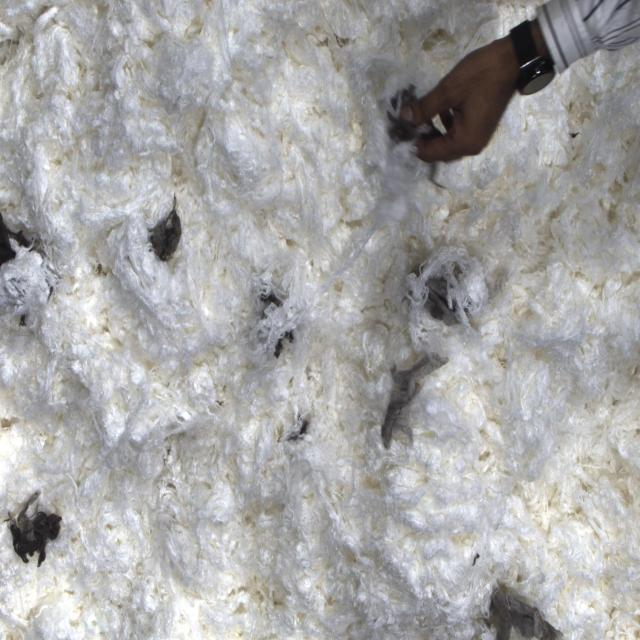dust: (345, 0, 571, 268), (574, 0, 639, 164), (375, 343, 454, 453), (0, 188, 47, 345), (475, 578, 573, 640), (0, 487, 67, 576), (414, 249, 481, 335), (258, 277, 297, 373), (142, 192, 186, 263), (276, 393, 315, 469), (563, 112, 585, 151)
